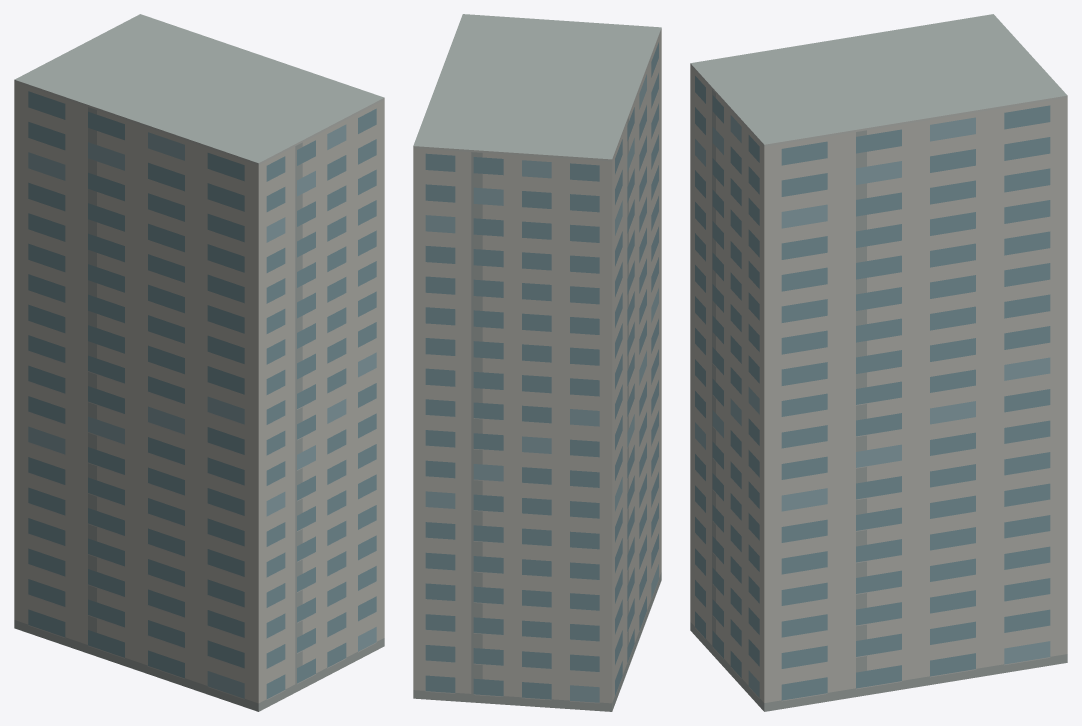
File: residential-7e87aa4a-30ca-466f-83f4-e30ba1153ef8.glb
3 views of the same model, side by side, from view 1: azimuth 30°, elevation 25°; view 2: azimuth 150°, elevation 25°; view 3: azimuth 270°, elevation 25° (orthographic). The views are drawn at different scales.
Parts seen in each view (by area): view 1: residential-7e87aa4a-30ca-466f-83f4-e30ba1153ef8.tmp; view 2: residential-7e87aa4a-30ca-466f-83f4-e30ba1153ef8.tmp; view 3: residential-7e87aa4a-30ca-466f-83f4-e30ba1153ef8.tmp.
Part boxes in pixels (<box>): residential-7e87aa4a-30ca-466f-83f4-e30ba1153ef8.tmp: <box>14,14,384,711</box>; residential-7e87aa4a-30ca-466f-83f4-e30ba1153ef8.tmp: <box>413,14,661,711</box>; residential-7e87aa4a-30ca-466f-83f4-e30ba1153ef8.tmp: <box>690,14,1067,711</box>.
Size of the model in its own units: 31.65 by 64 by 38.59.
